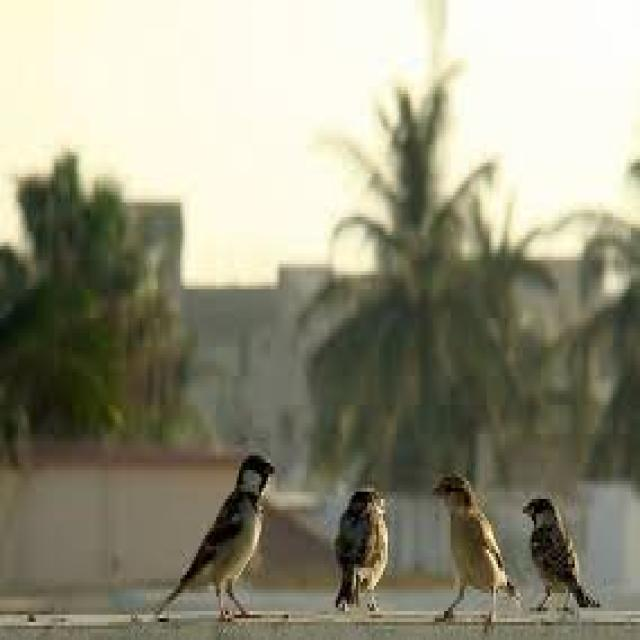bird: (154, 450, 279, 626), (435, 477, 518, 627), (524, 498, 605, 610), (332, 487, 393, 621)
